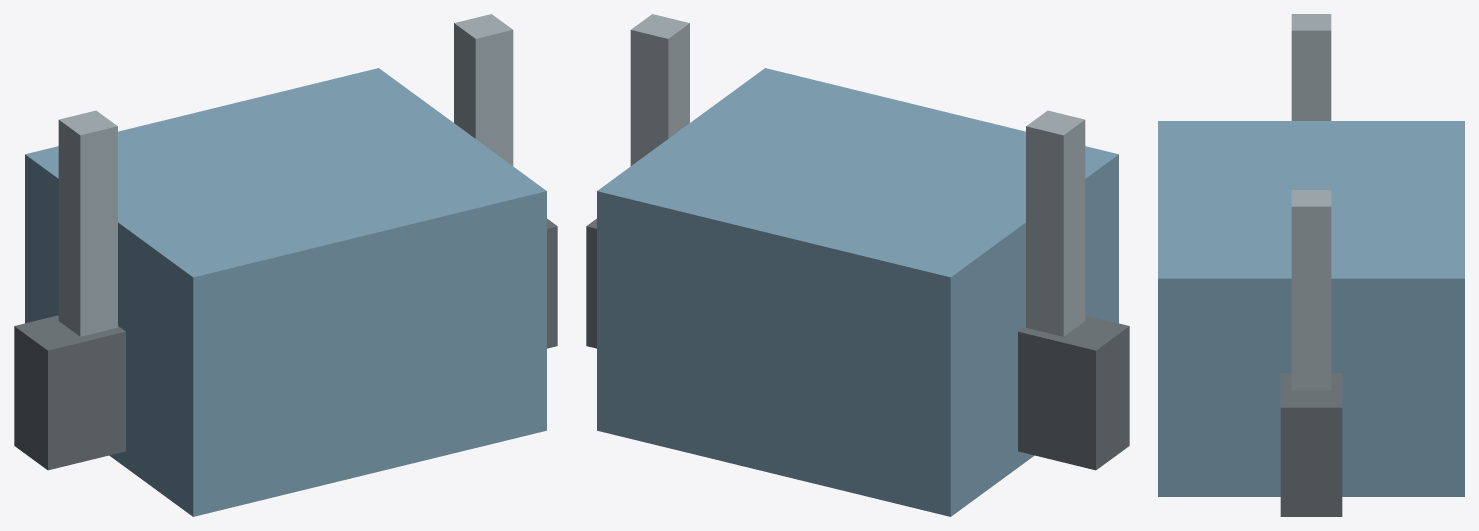
The model's file is grinder_lod0.glb.
The picture shows the model from 3 angles, left to right: view 1: azimuth 30°, elevation 25°; view 2: azimuth 150°, elevation 25°; view 3: azimuth 270°, elevation 25°; orthographic projection. The views are drawn at different scales.
Parts seen in each view (by area): view 1: grinder-node-0, grinder-node-3, grinder-node-1, grinder-node-2, grinder-node-4; view 2: grinder-node-0, grinder-node-3, grinder-node-1, grinder-node-2, grinder-node-4; view 3: grinder-node-0, grinder-node-4, grinder-node-2, grinder-node-1.
Part boxes in pixels (<box>): grinder-node-0: <box>25,68,546,516</box>; grinder-node-3: <box>14,315,125,470</box>; grinder-node-1: <box>58,110,117,336</box>; grinder-node-2: <box>454,14,513,165</box>; grinder-node-4: <box>547,218,557,348</box>; grinder-node-0: <box>597,68,1118,516</box>; grinder-node-3: <box>1018,315,1129,470</box>; grinder-node-1: <box>1026,110,1085,336</box>; grinder-node-2: <box>630,14,689,165</box>; grinder-node-4: <box>586,218,596,348</box>; grinder-node-0: <box>1158,121,1464,496</box>; grinder-node-4: <box>1280,373,1342,516</box>; grinder-node-2: <box>1291,190,1331,390</box>; grinder-node-1: <box>1291,14,1331,120</box>.
Size of the model in its own units: 2.45 by 1.55 by 1.4.
